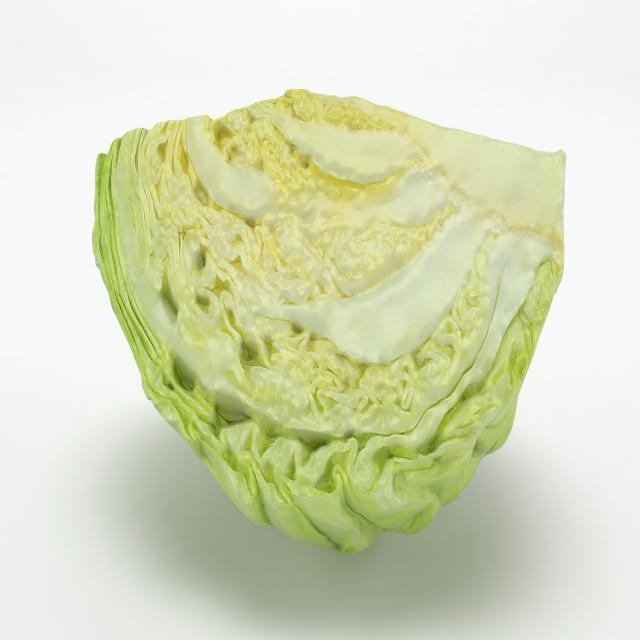haft-cabbage: (88, 91, 572, 553)
